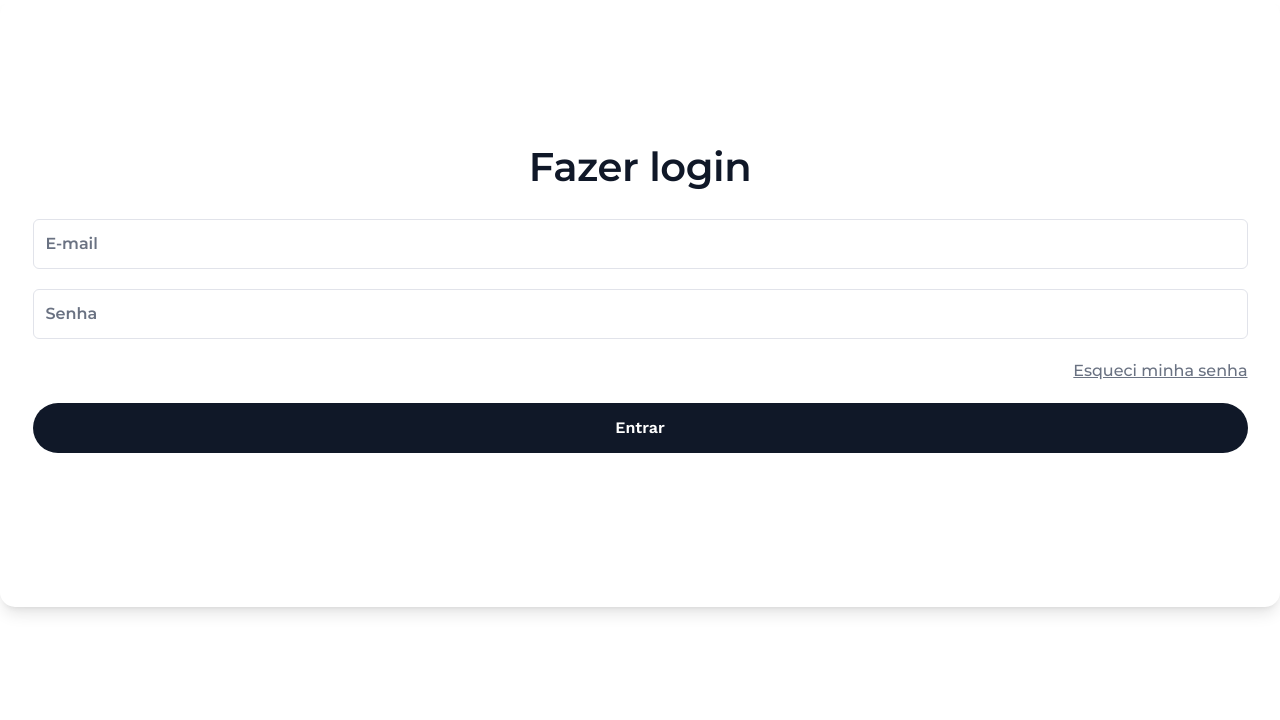
Test case: LoginForm › should display an error message on login failure
Type "test@test.com" into the field with placeholder "E-mail" at (640, 244), box [46, 232, 1234, 256]
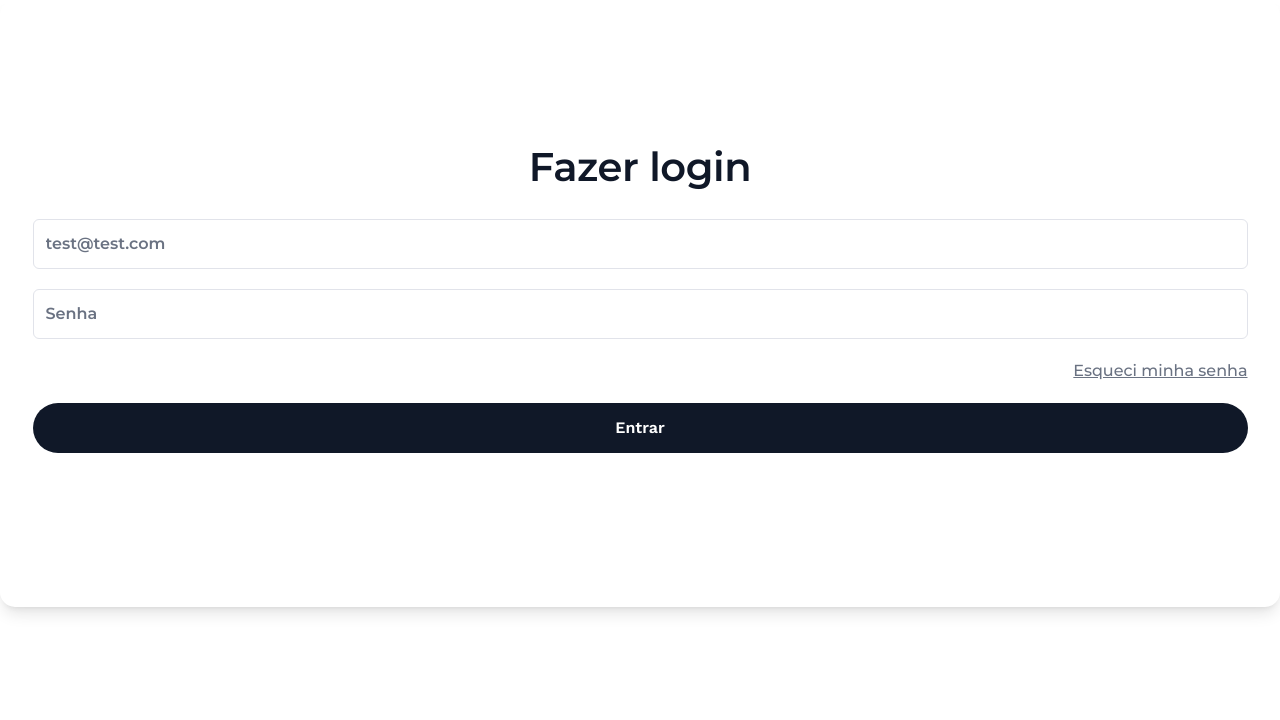
Type "password123" into the password field with placeholder "Senha" at (640, 314), box [46, 302, 1234, 326]
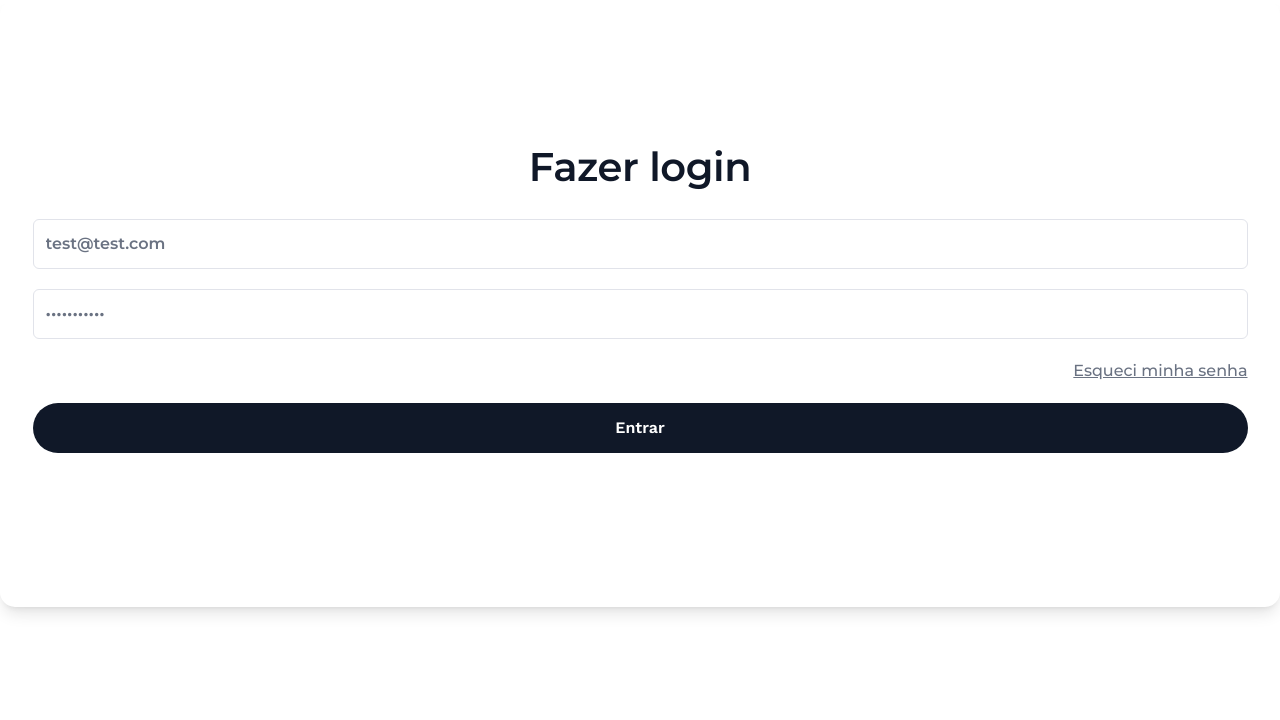
Click the button "Entrar" at (640, 428), box [32, 402, 1248, 452]
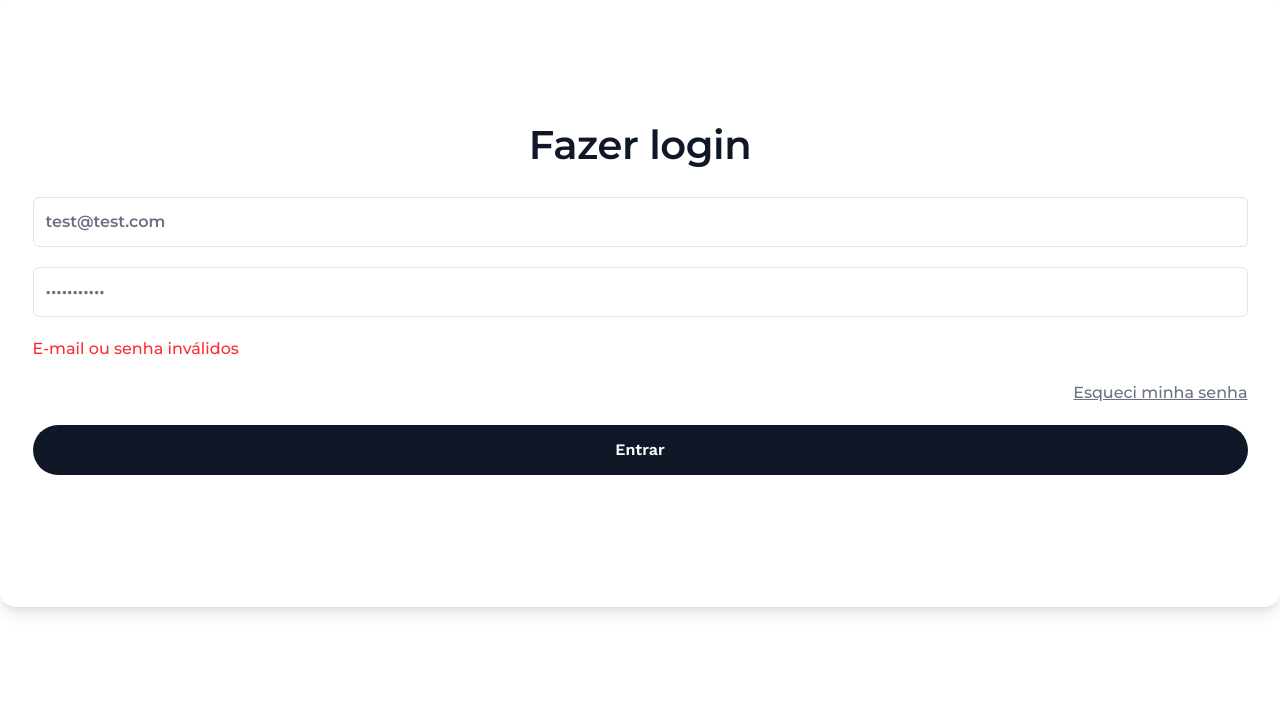
Result: the text "E-mail ou senha inválidos" is shown at [32, 336, 239, 360]
